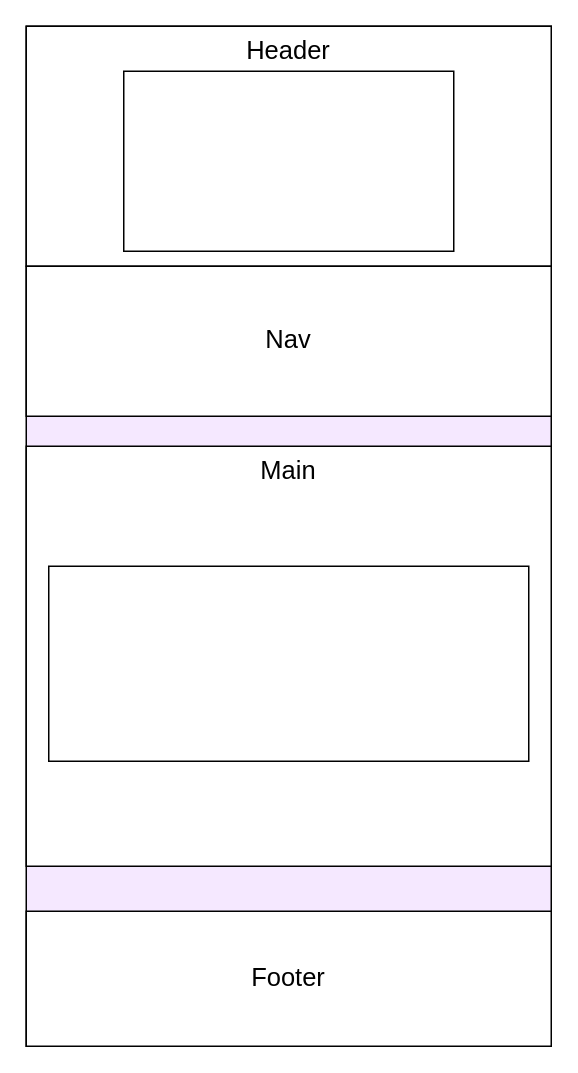
Image size: 578x1073. Some labels were removed from this diagram. The centre of each missing label's shape, as x and y in pixels:
"Logo" belongs at (x=288, y=160).
"Video" belongs at (x=288, y=663).
